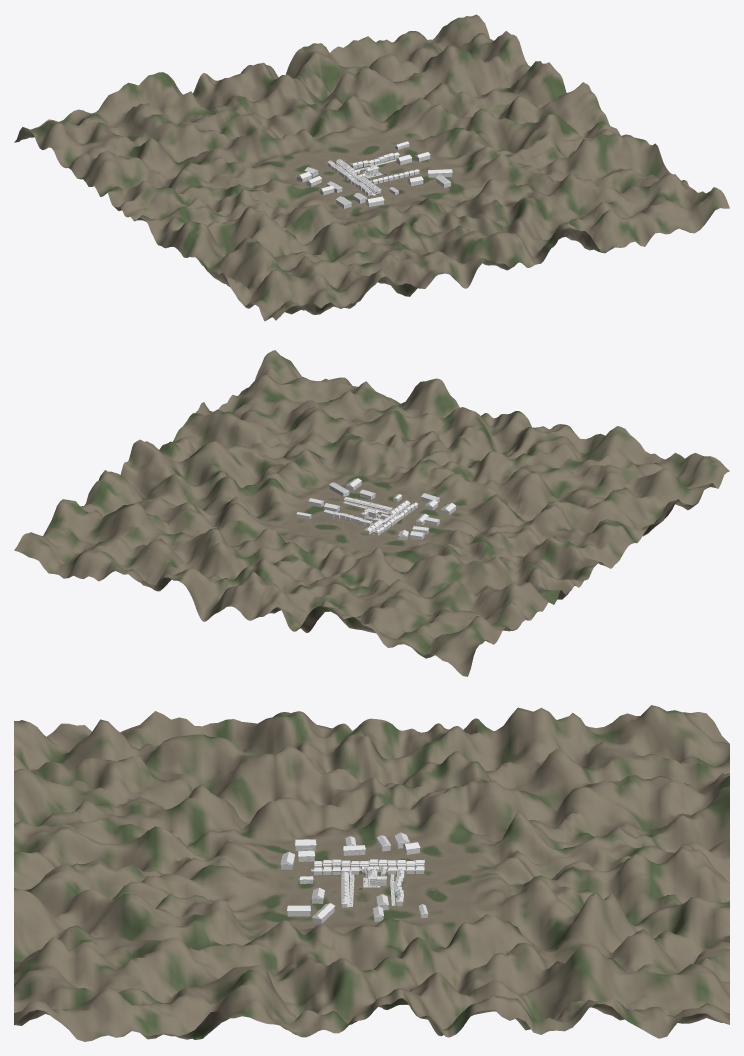
The model's file is zunyi.glb.
3 views of the same model, one above another, from view 1: azimuth 30°, elevation 25°; view 2: azimuth 150°, elevation 25°; view 3: azimuth 270°, elevation 25° (orthographic). The views are drawn at different scales.
Visible parts, largest first — view 1: Continuous terrain, Outlying courtyard roofs, Historic plaster, Historic tile; view 2: Continuous terrain, Outlying courtyard roofs, Historic plaster, Historic tile; view 3: Continuous terrain, Outlying courtyard roofs, Historic tile, Historic plaster, Historic timber, Historic plankwall.
Part boxes in pixels (bbox=[...]): Continuous terrain: bbox=[14, 14, 729, 321]; Outlying courtyard roofs: bbox=[297, 141, 452, 204]; Historic plaster: bbox=[297, 143, 451, 208]; Historic tile: bbox=[327, 152, 419, 192]; Continuous terrain: bbox=[14, 350, 729, 676]; Outlying courtyard roofs: bbox=[296, 478, 455, 536]; Historic plaster: bbox=[296, 481, 455, 540]; Historic tile: bbox=[324, 497, 417, 532]; Continuous terrain: bbox=[14, 705, 729, 1041]; Outlying courtyard roofs: bbox=[280, 832, 427, 918]; Historic tile: bbox=[313, 859, 424, 904]; Historic plaster: bbox=[281, 837, 427, 923]; Historic timber: bbox=[280, 836, 428, 921]; Historic plankwall: bbox=[314, 862, 424, 907].
Size of the model in its own units: 518 by 54.12 by 518.
51 materials, 20 textured.
